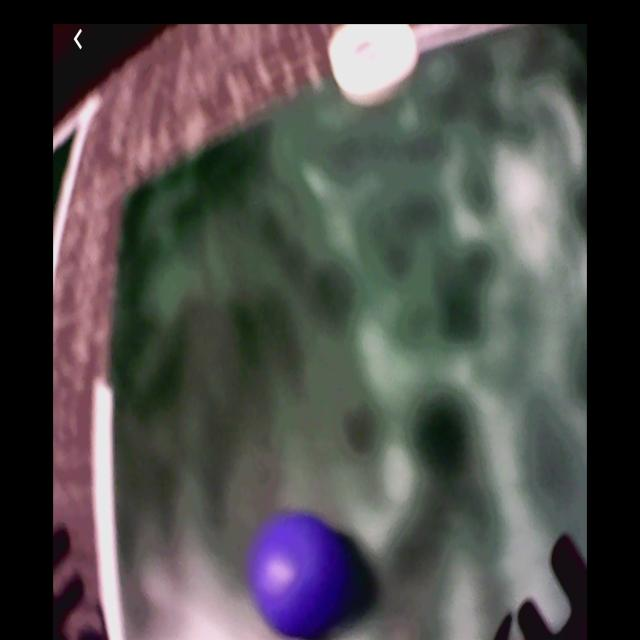ball: (249, 515, 344, 640)
